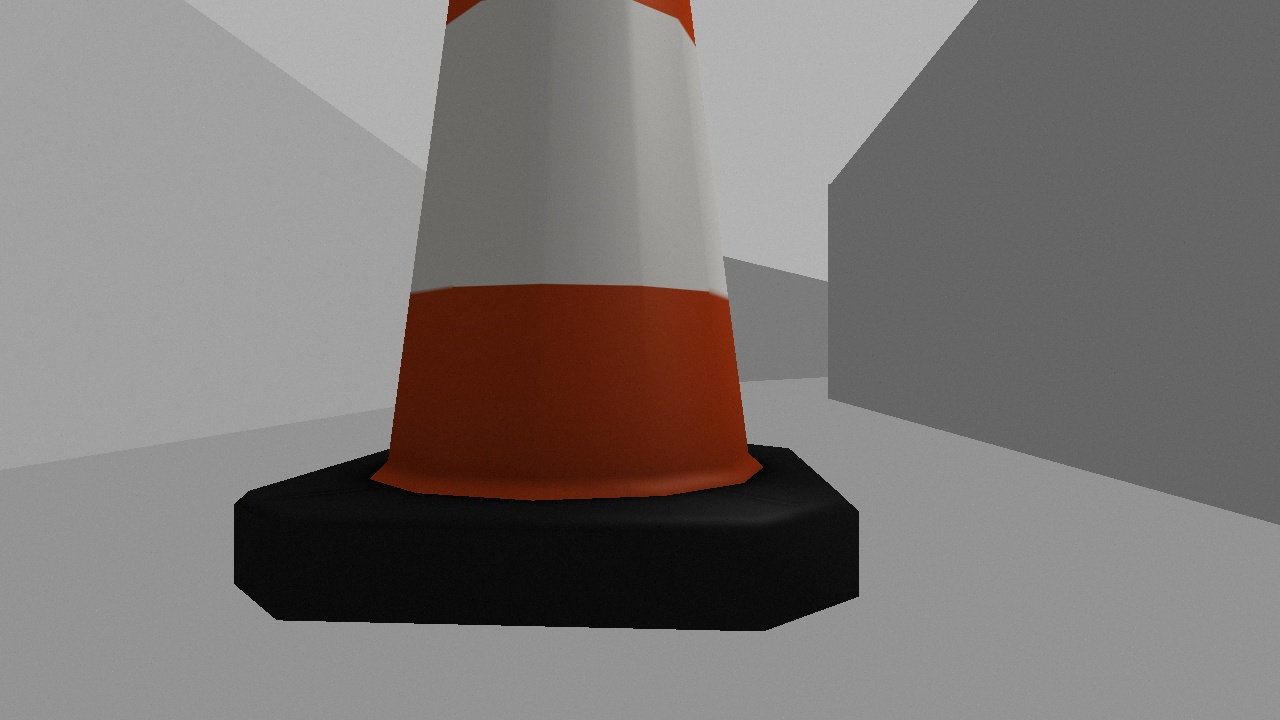barricade: (231, 1, 862, 633)
